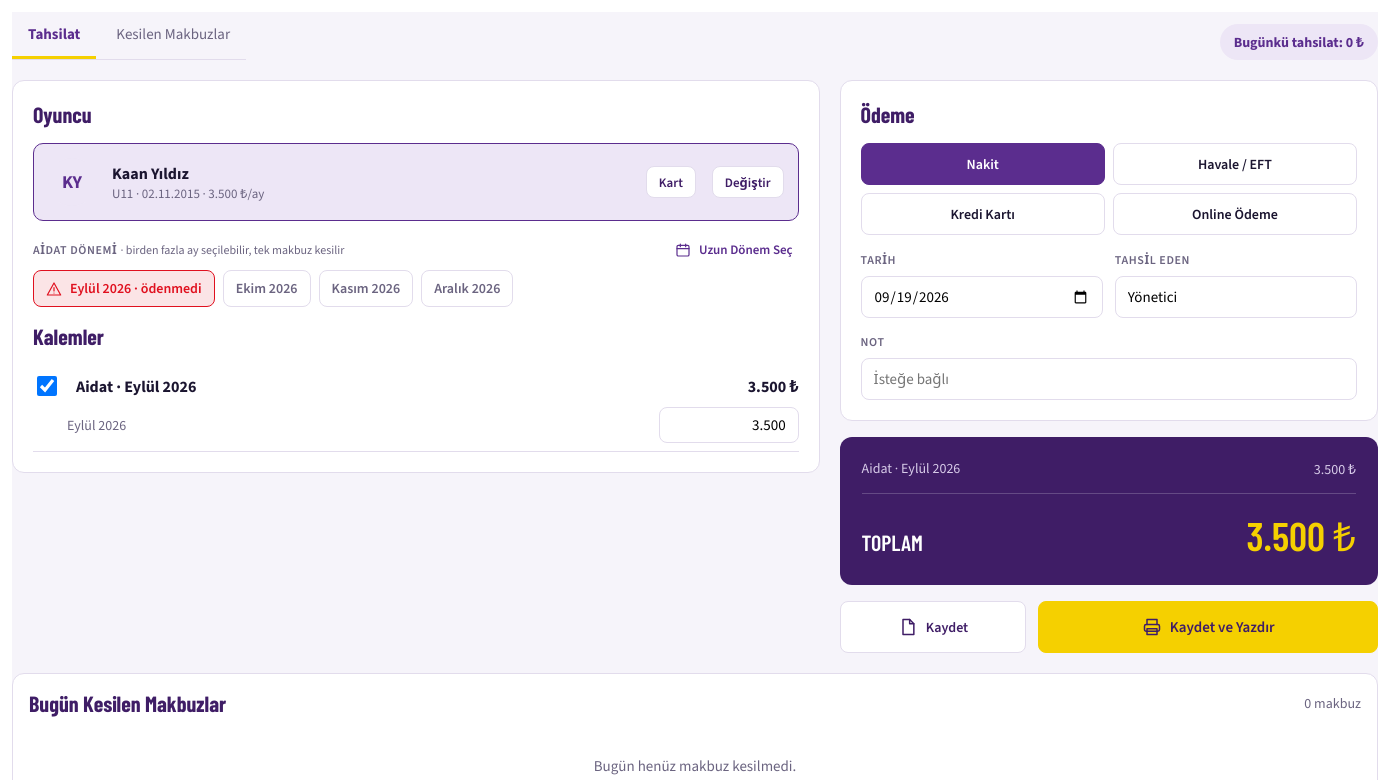
Test: Tahsilat — yazdırma/PDF hata yolları › Kaydet ve Yazdır: yazıcı yoksa makbuz kaydedilir, PDF sistem görüntüleyicisinde açılır, hata mesajı açıklar, form temizlenir
This screenshot has width=1390, height=780.
Click the button "Kaydet ve Yazdır" at (1208, 627), box [1038, 601, 1378, 653]
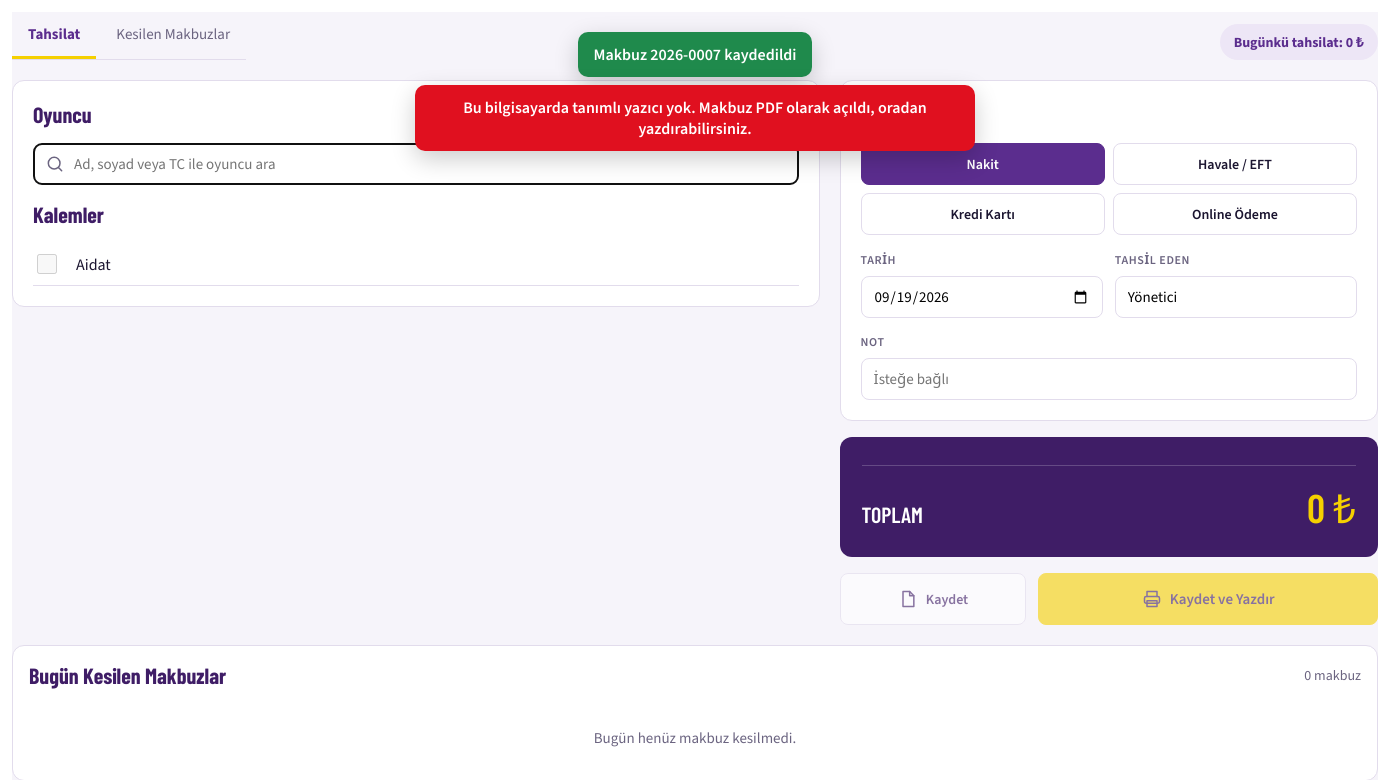
Result: the text "Makbuz 2026-0007 kaydedildi" is shown at [578, 32, 812, 77]
Result: the text "Bu bilgisayarda tanımlı yazıcı yok. Makbuz PDF olarak açıldı, oradan yazdırabilirsiniz." is shown at [463, 97, 927, 139]
Result: the field labelled "oyuncu ara" is shown at [33, 143, 799, 185]
